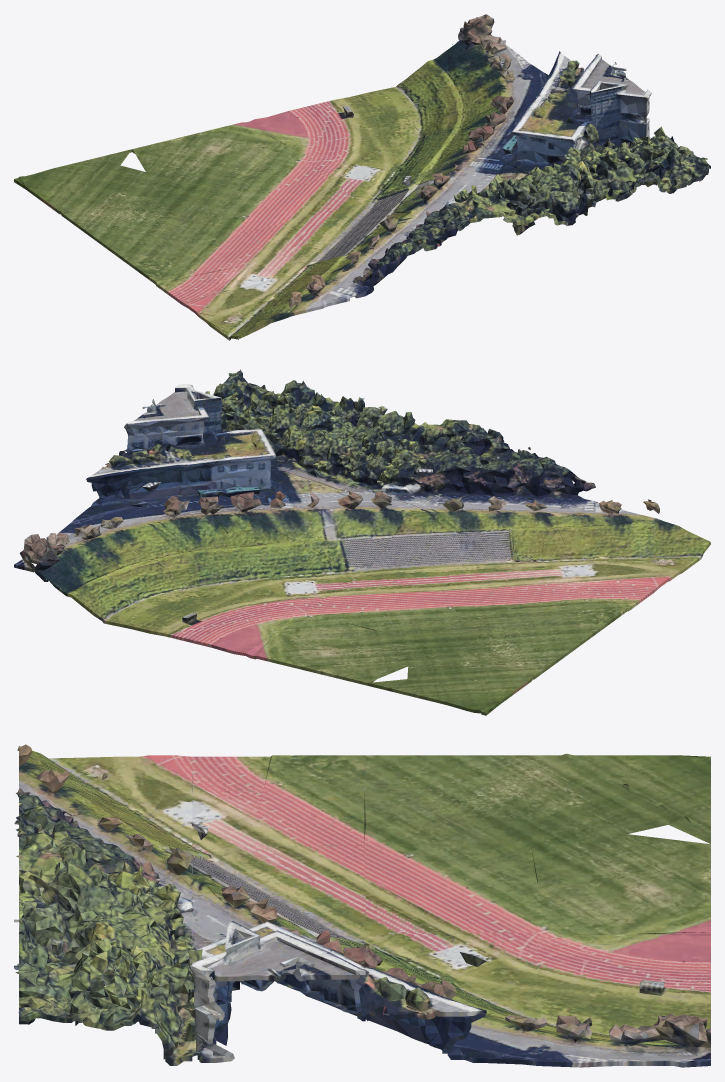
File: Split2.fbx
3 renders of one model, top to bottom at view 1: azimuth 30°, elevation 25°; view 2: azimuth 150°, elevation 25°; view 3: azimuth 270°, elevation 25°, orthographic. The views are drawn at different scales.
Parts seen in each view (by area): view 1: BuildingMesh-00189.001; view 2: BuildingMesh-00189.001; view 3: BuildingMesh-00189.001.
Boxes of the visible parts, x1,y1,x2,y2 form: BuildingMesh-00189.001: (14,14,710,340); BuildingMesh-00189.001: (14,369,710,715); BuildingMesh-00189.001: (14,744,710,1067).
Bounding box in the file's own units: 195 × 40.39 × 161.
5 materials, 5 textured.
